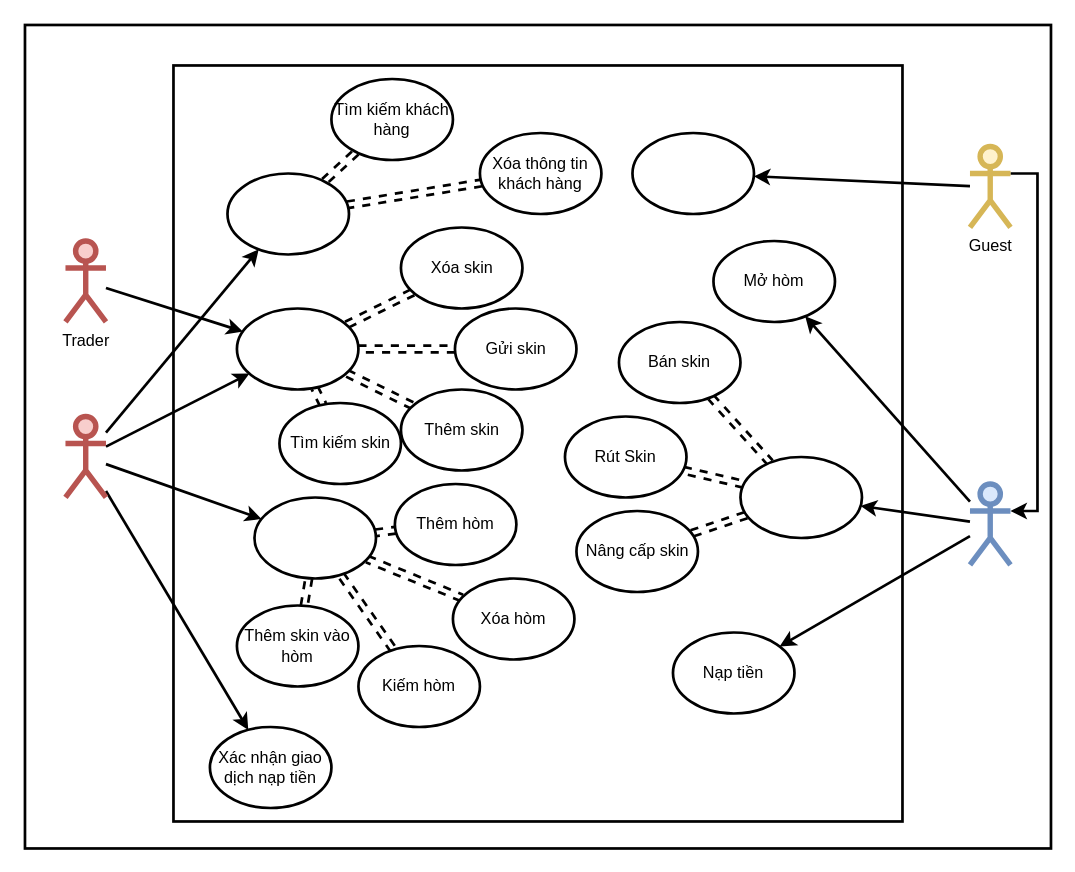
Image size: 1075x872. Some labels were removed from this diagram. The shapes that lost their labels are listed below. From the top down, each one's centre as x and y in pixels, then its label:
[692,173]: Đăng nhập
[287,213]: Quản lý khách hàng
[297,348]: Quản lý skin
[85,456]: Admin
[800,497]: Quản lỳ skin cá nhân
[314,537]: Quản lý hòm
[990,524]: Customer
